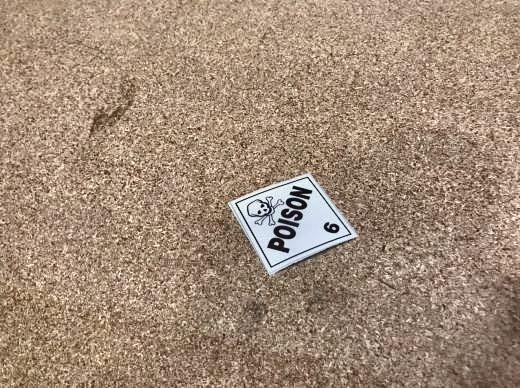poison: (228, 173, 358, 276)
